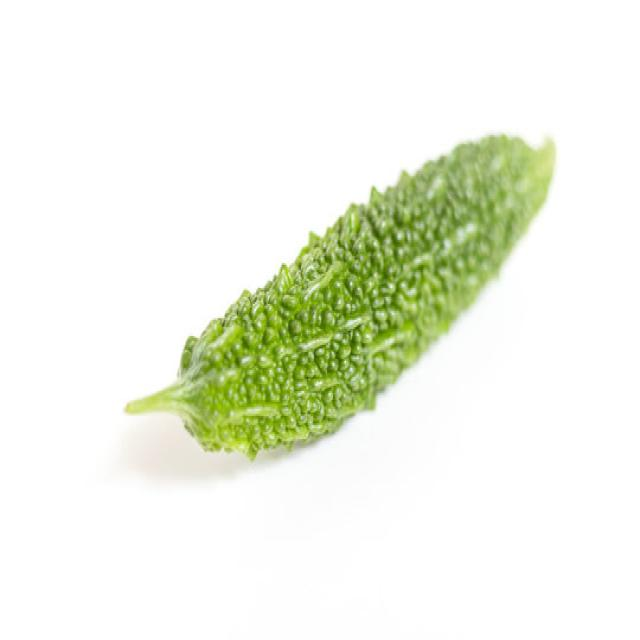Bitter_Gourd: (123, 130, 556, 460)
